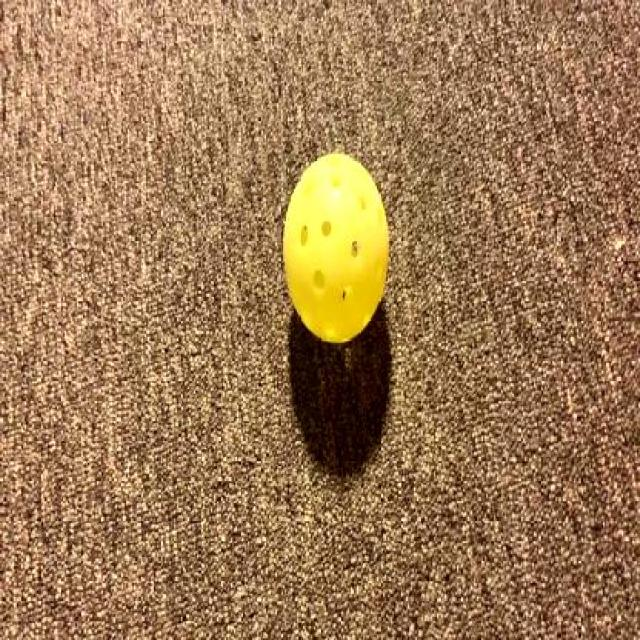ball: (282, 150, 397, 344)
